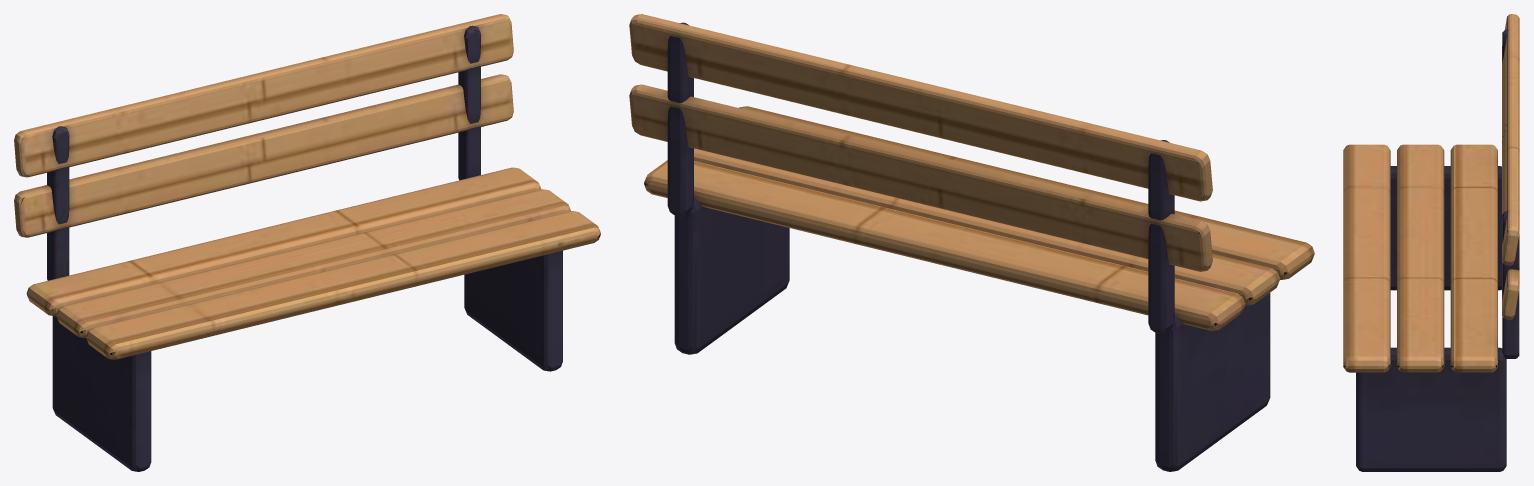
Rendered from bench.glb.
The picture shows the model from 3 angles, left to right: view 1: azimuth 30°, elevation 25°; view 2: azimuth 150°, elevation 25°; view 3: azimuth 270°, elevation 25°; orthographic projection. The views are drawn at different scales.
Parts seen in each view (by area): view 1: Mesh_0; view 2: Mesh_0; view 3: Mesh_0.
Boxes of the visible parts, bbox=[...] form: Mesh_0: bbox=[14, 14, 600, 471]; Mesh_0: bbox=[629, 14, 1314, 471]; Mesh_0: bbox=[1343, 14, 1519, 471].
Size of the model in its own units: 2.4 by 1.33 by 0.8216.
Materials: 1 (1 with a texture image).
